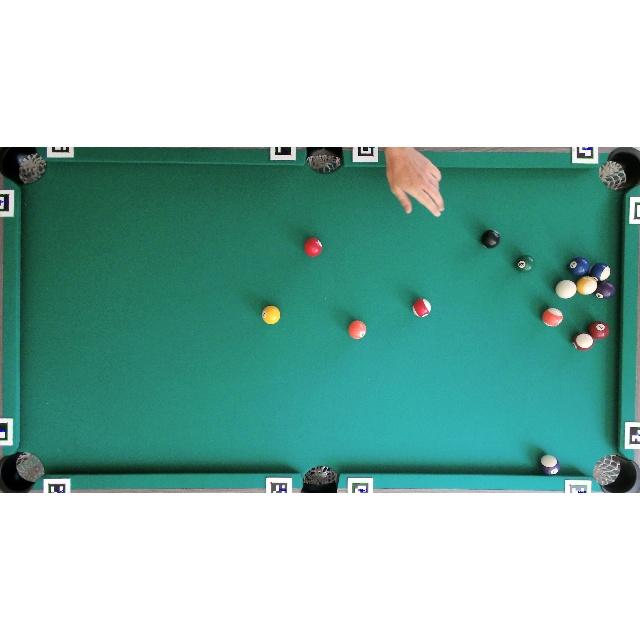cue ball: (555, 279, 577, 299)
other: (514, 254, 536, 274), (568, 256, 590, 276), (542, 308, 564, 328), (589, 262, 611, 282), (593, 280, 616, 299), (540, 454, 560, 475), (572, 332, 594, 351), (576, 276, 598, 295), (412, 298, 432, 318), (261, 305, 281, 325), (348, 319, 367, 340), (588, 321, 610, 339), (480, 229, 500, 248), (304, 237, 322, 257)
